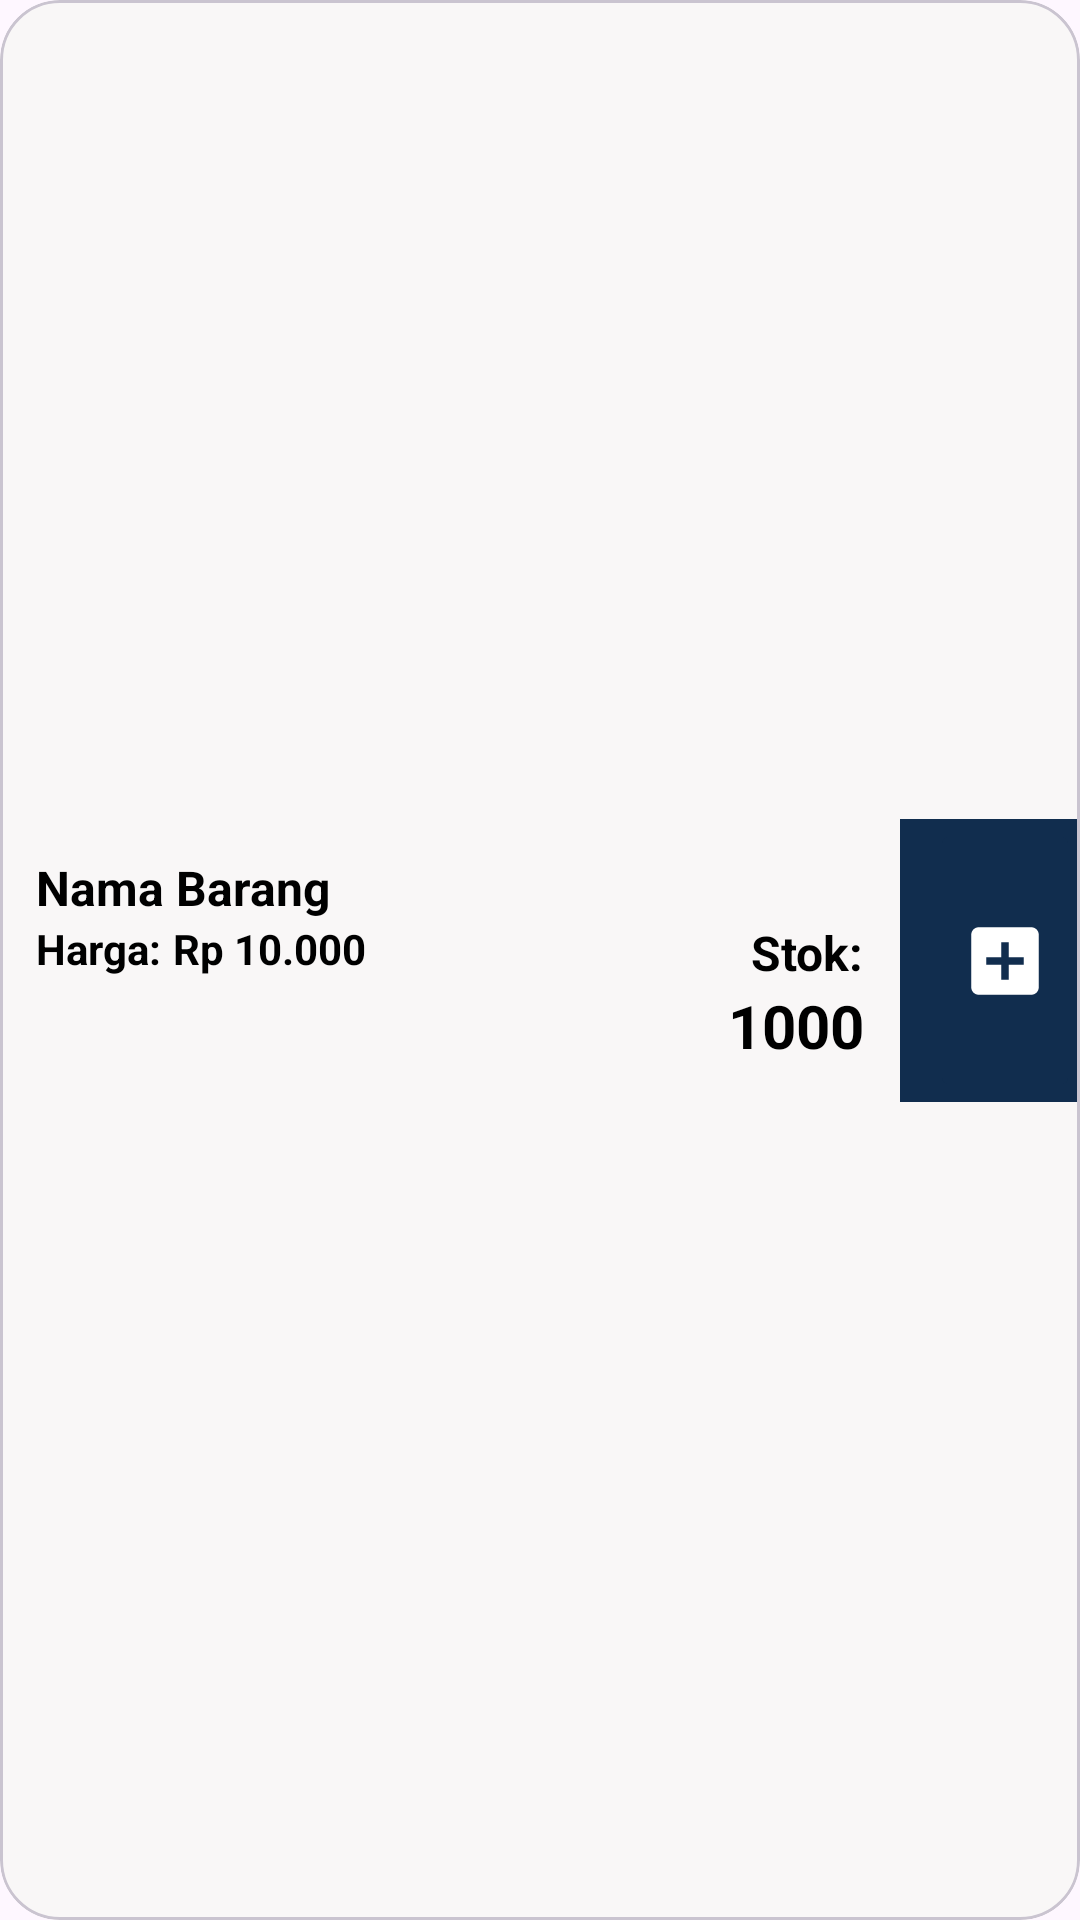

Icons on this 1080 × 1920 Android screen, each with the point to tap as [x,y]:
Button add to sale: [1005,960]
